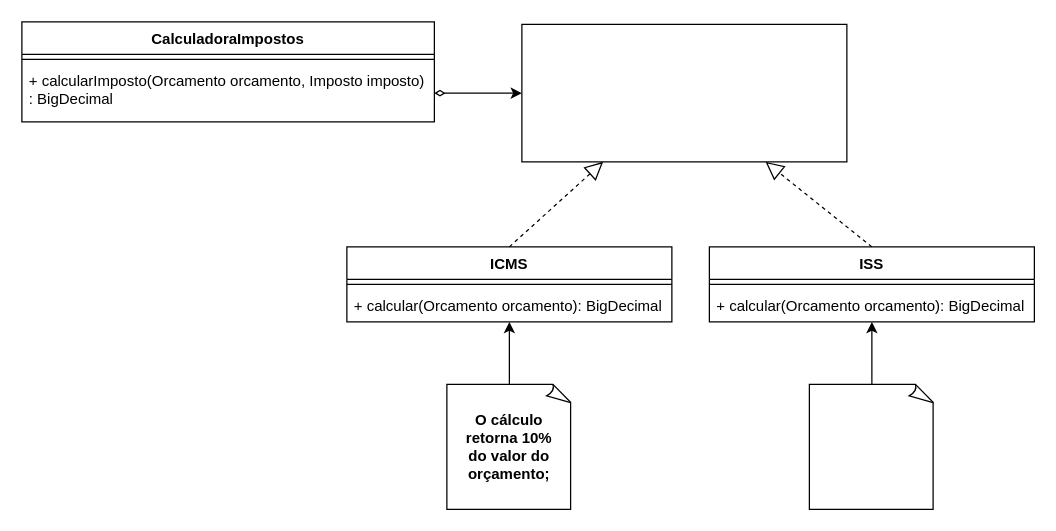
This 1056x531 diagram has some shape labels left out. Here are the shapes that lost their labels. From the top down, the box of each, then its label:
(521, 23, 847, 162): <<Interface>> Imposto + calcular(Orcamento orcamento): BigDecimal
(808, 383, 934, 509): O cálculo retorna 6% do valor do orçamento;
